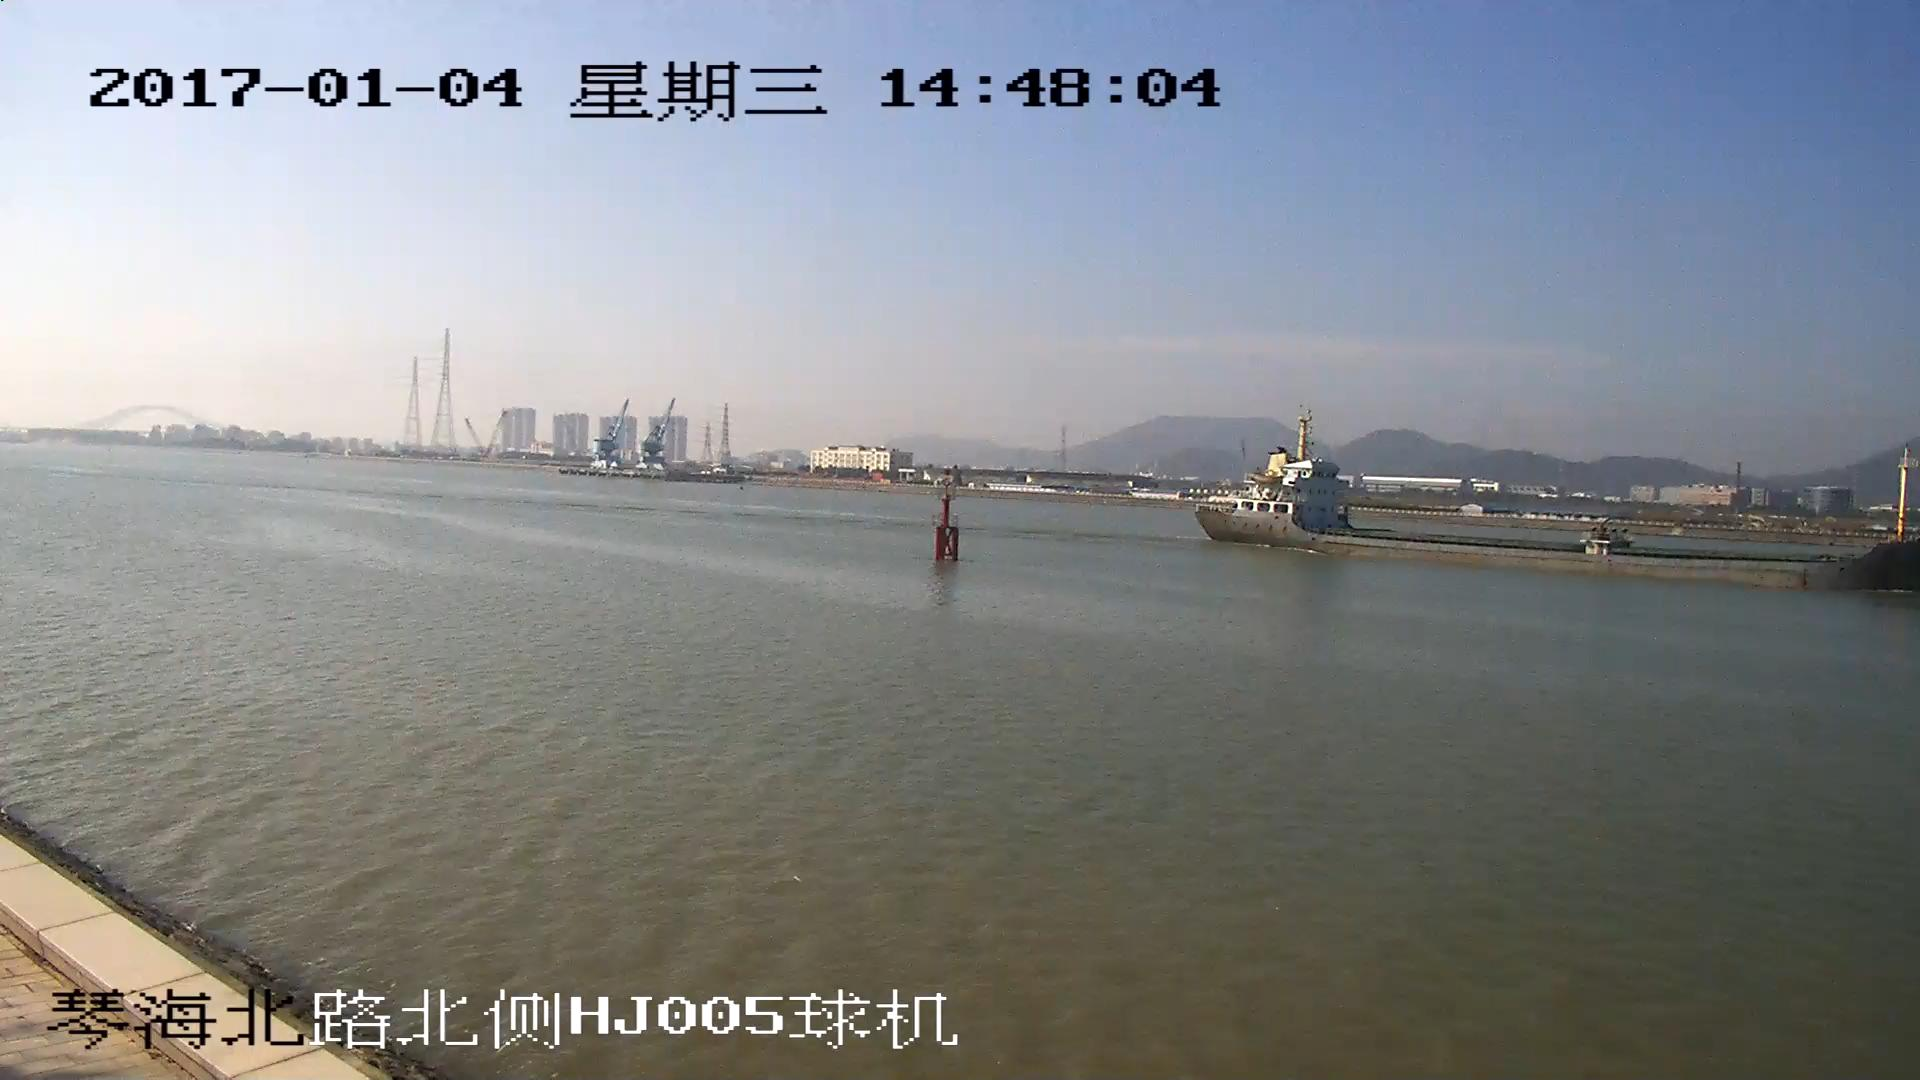general cargo ship: (1190, 417, 1920, 595)
